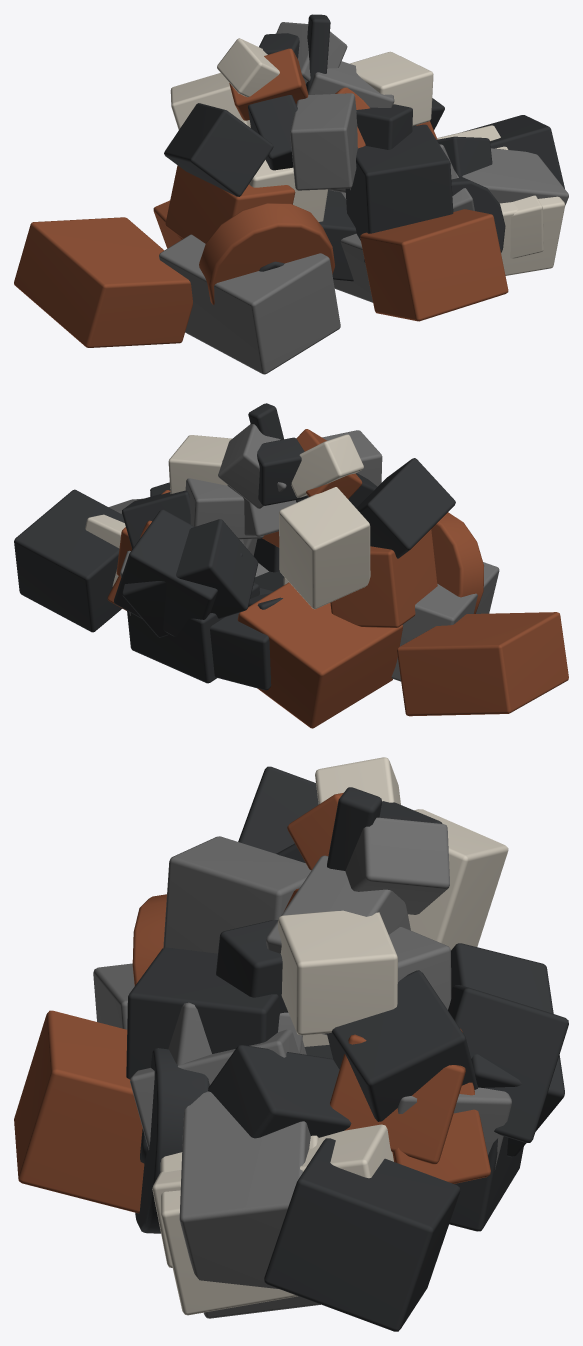
File: scrap-pile-c.glb
3 views of the same model, one above another, from view 1: azimuth 30°, elevation 25°; view 2: azimuth 150°, elevation 25°; view 3: azimuth 270°, elevation 25° (orthographic). The views are drawn at different scales.
Visible parts, largest first — view 1: scrap-pile-c; view 2: scrap-pile-c; view 3: scrap-pile-c.
Part boxes in pixels (bbox=[...]): scrap-pile-c: bbox=[14, 14, 568, 374]; scrap-pile-c: bbox=[14, 403, 568, 728]; scrap-pile-c: bbox=[14, 757, 568, 1331].
Size of the model in its own units: 5.19 by 2.6 by 3.17.
